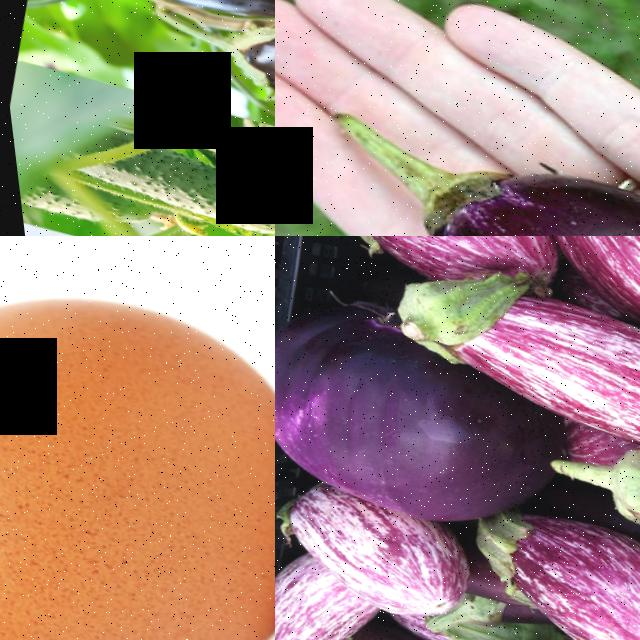egg_: (0, 236, 275, 640)
eggplant: (414, 266, 640, 470), (275, 476, 471, 630), (352, 134, 640, 236), (447, 505, 640, 640), (285, 236, 560, 308), (491, 236, 640, 339), (581, 430, 640, 616), (94, 0, 275, 49)
